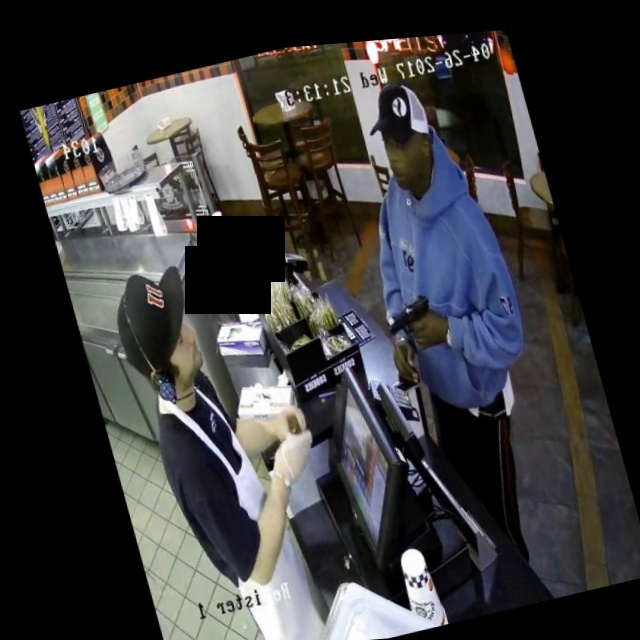gun: (363, 271, 456, 368)
